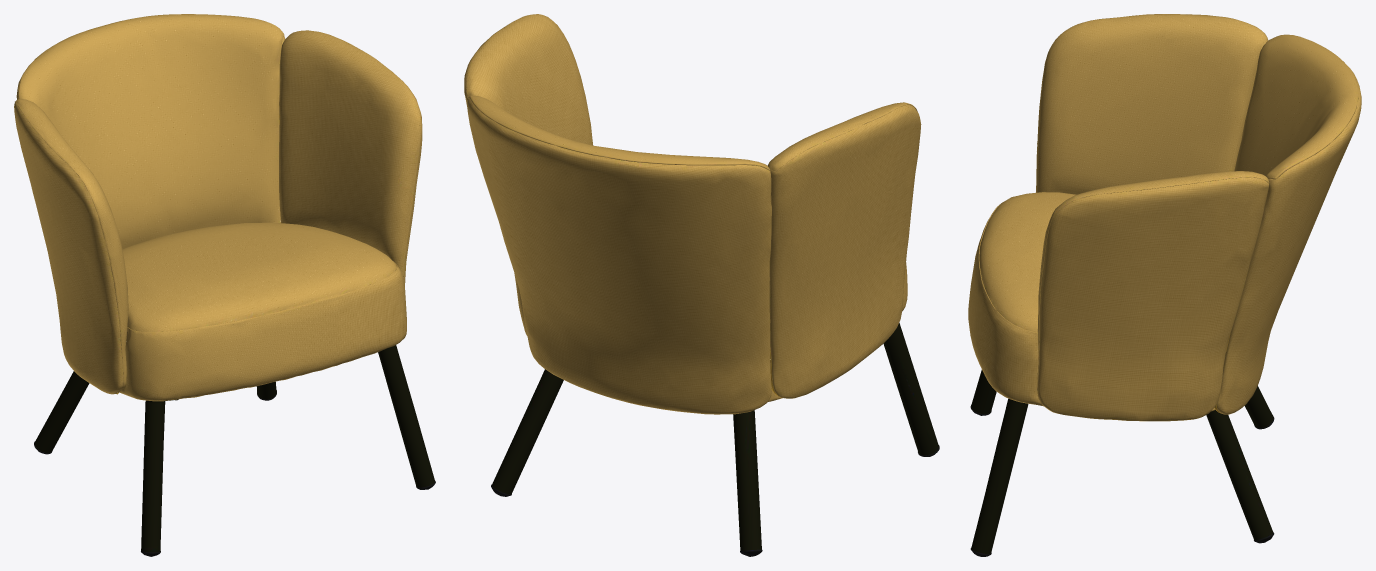
The model's file is herrakra_fotel_30535543.glb.
3 renders of one model, left to right at view 1: azimuth 30°, elevation 25°; view 2: azimuth 150°, elevation 25°; view 3: azimuth 270°, elevation 25°, orthographic. The views are drawn at different scales.
Visible parts, largest first — view 1: herrakra_fotel_30535543; view 2: herrakra_fotel_30535543; view 3: herrakra_fotel_30535543.
Boxes of the visible parts, x1=… form: herrakra_fotel_30535543: x1=14, y1=14, x2=435, y2=556; herrakra_fotel_30535543: x1=464, y1=14, x2=939, y2=556; herrakra_fotel_30535543: x1=968, y1=14, x2=1361, y2=556.
Size of the model in its own units: 0.7074 by 0.7264 by 0.6575.
1 material, 1 textured.
